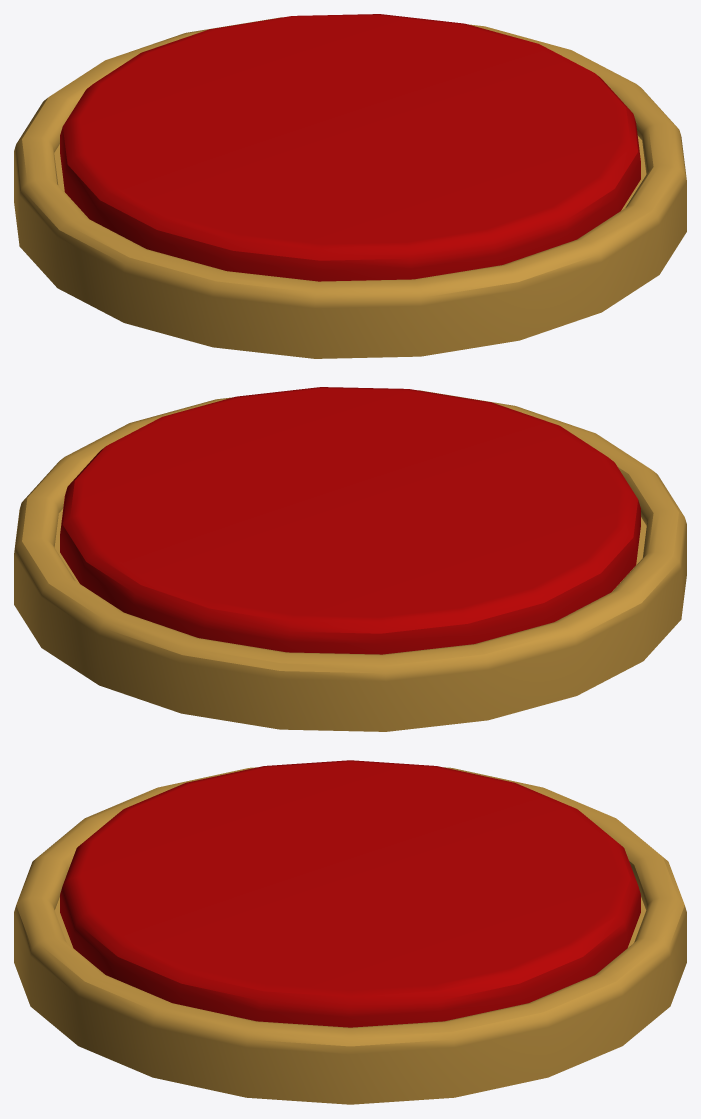
The model's file is a5_red.fbx.
3 renders of one model, top to bottom at view 1: azimuth 30°, elevation 25°; view 2: azimuth 150°, elevation 25°; view 3: azimuth 270°, elevation 25°, orthographic.
Parts seen in each view (by area): view 1: polySurface7; view 2: polySurface7; view 3: polySurface7.
Part boxes in pixels (x1,y1,x2,y2): polySurface7: (14, 14, 686, 358); polySurface7: (14, 387, 686, 731); polySurface7: (14, 760, 686, 1104).
Bounding box in the file's own units: 200 × 28.3 × 200.
